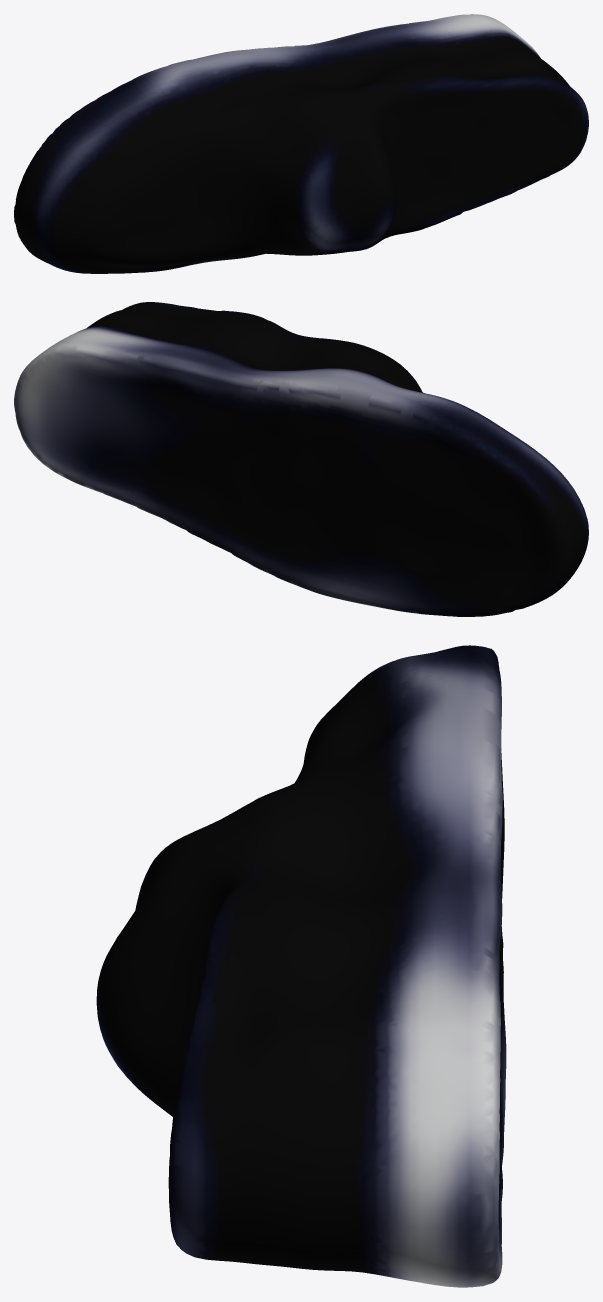
The model's file is shoe.glb.
3 renders of one model, top to bottom at view 1: azimuth 30°, elevation 25°; view 2: azimuth 150°, elevation 25°; view 3: azimuth 270°, elevation 25°, orthographic. The views are drawn at different scales.
Bounding box in the file's own units: 0.9997 × 0.3716 × 0.3425.
